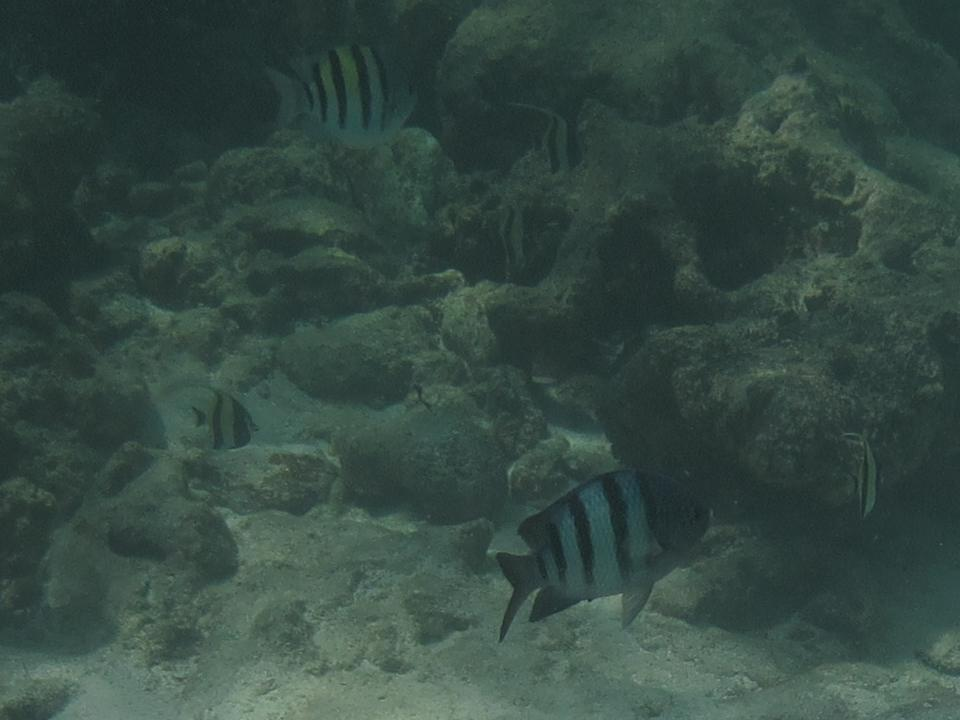Abudefduf vaigiensis: (449, 468, 768, 646), (218, 20, 448, 177)
